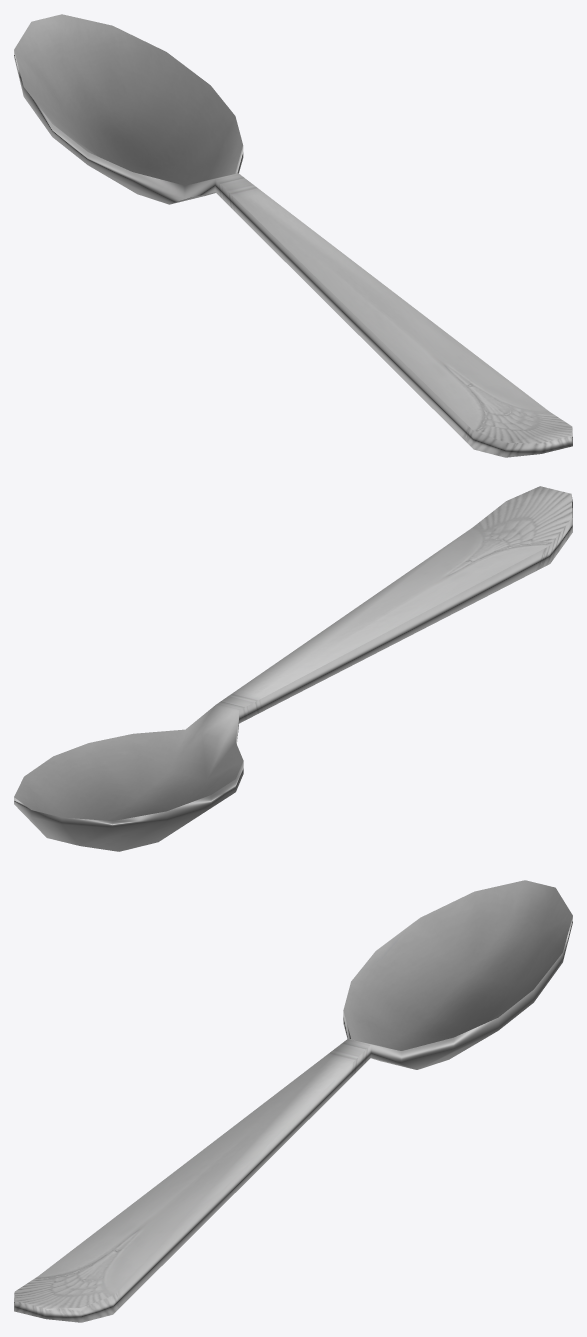
The model's file is SpoonSmall.fbx.
3 views of the same model, one above another, from view 1: azimuth 30°, elevation 25°; view 2: azimuth 150°, elevation 25°; view 3: azimuth 330°, elevation 25° (orthographic).
Visible parts, largest first — view 1: Default_Layer; view 2: Default_Layer; view 3: Default_Layer.
Boxes of the visible parts, x1,y1,x2,y2 form: Default_Layer: [14, 14, 572, 457]; Default_Layer: [14, 486, 572, 851]; Default_Layer: [14, 880, 572, 1322].
Size of the model in its own units: 9.25 by 4.78 by 51.7.
